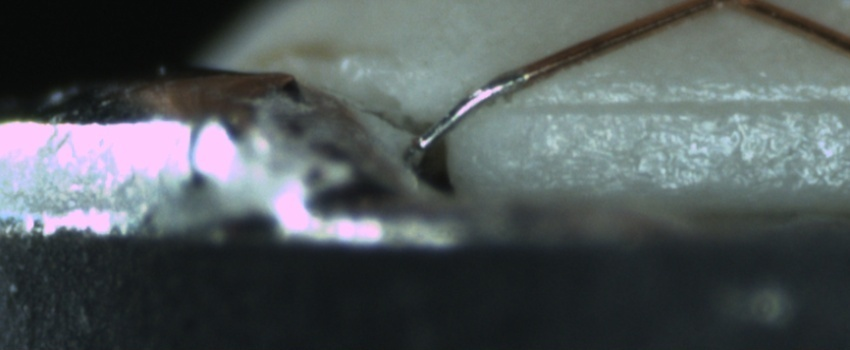CL: (680, 0, 778, 17)
DL: (516, 75, 849, 141)
TS: (419, 68, 528, 149)
TTCW: (422, 45, 592, 144)
